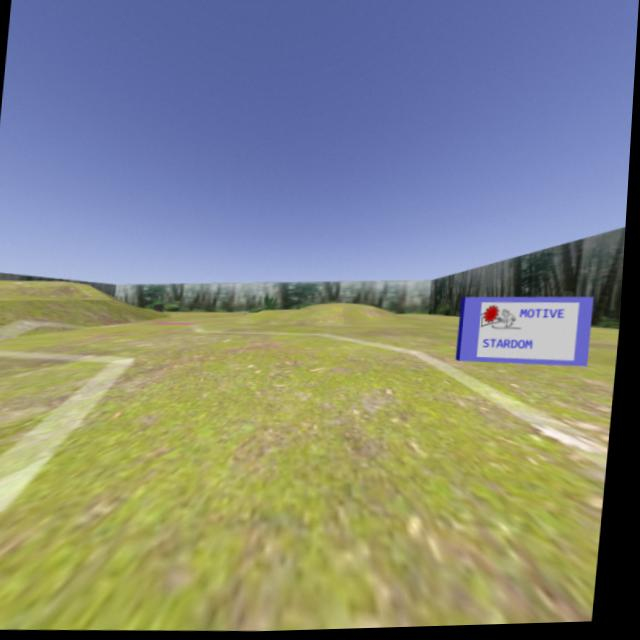clueboard: (455, 290, 594, 369)
